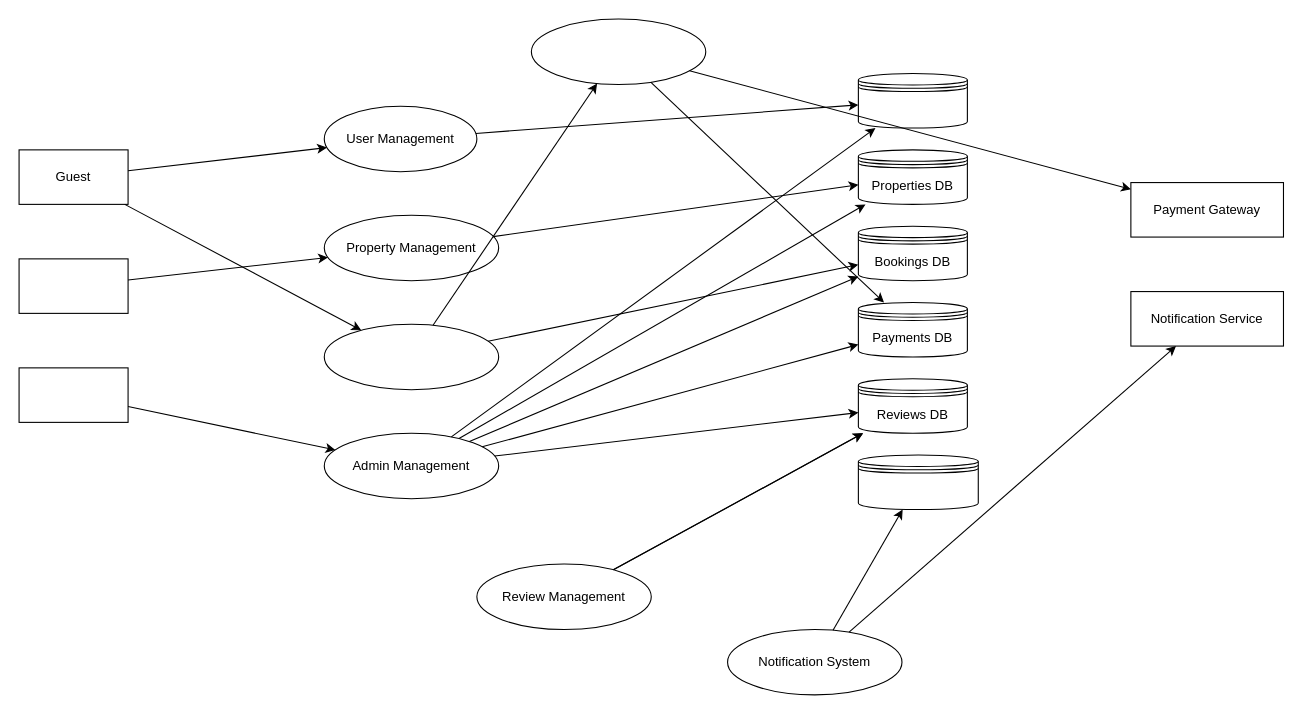
This 1303x714 diagram has some shape labels left out. Each missing label, with the centre of its shape:
Admin: the point at 73,394
Booking Management: the point at 411,356
Host: the point at 73,285
Notifications DB: the point at 917,482
Payment Processing: the point at 618,51
Users DB: the point at 912,100
